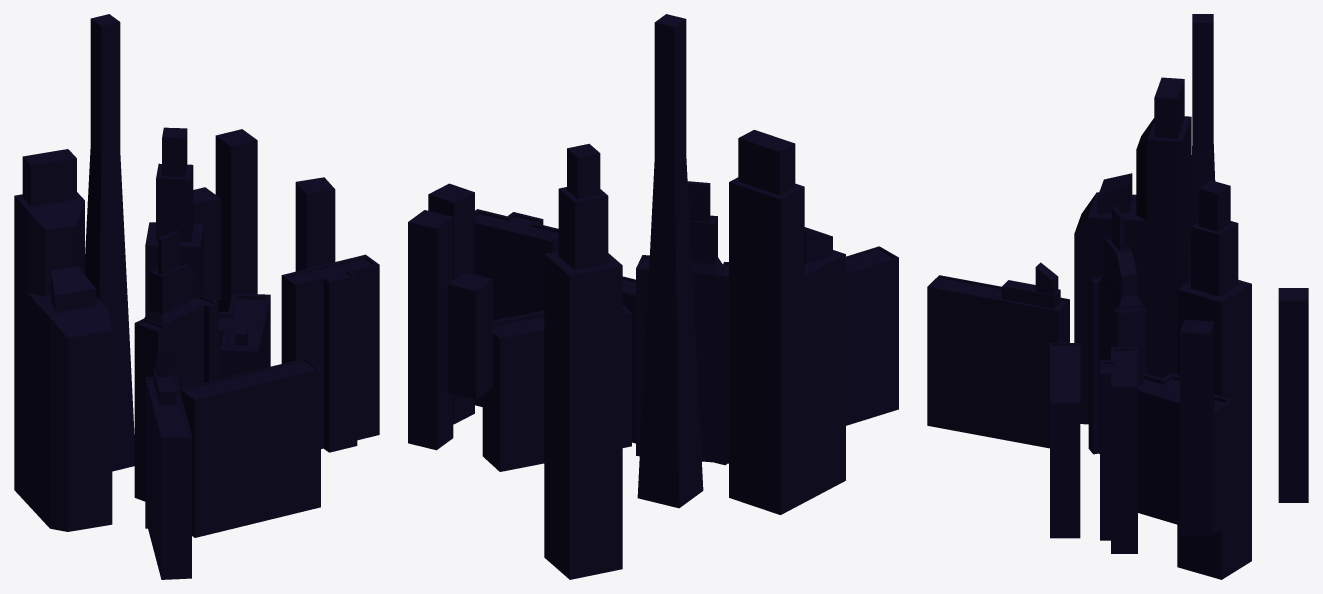
Rendered from buildings-bg.glb.
3 views of the same model, side by side, from view 1: azimuth 30°, elevation 25°; view 2: azimuth 150°, elevation 25°; view 3: azimuth 270°, elevation 25° (orthographic). The views are drawn at different scales.
Parts seen in each view (by area): view 1: background_buildings; view 2: background_buildings; view 3: background_buildings.
Part boxes in pixels (bbox=[...]): background_buildings: bbox=[14, 14, 379, 579]; background_buildings: bbox=[408, 14, 898, 579]; background_buildings: bbox=[927, 14, 1308, 579].
Bounding box in the file's own units: 25.25 × 37.28 × 25.29.
